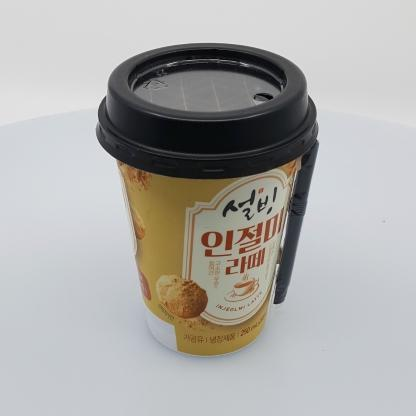--------------250ML: (95, 42, 319, 356)
